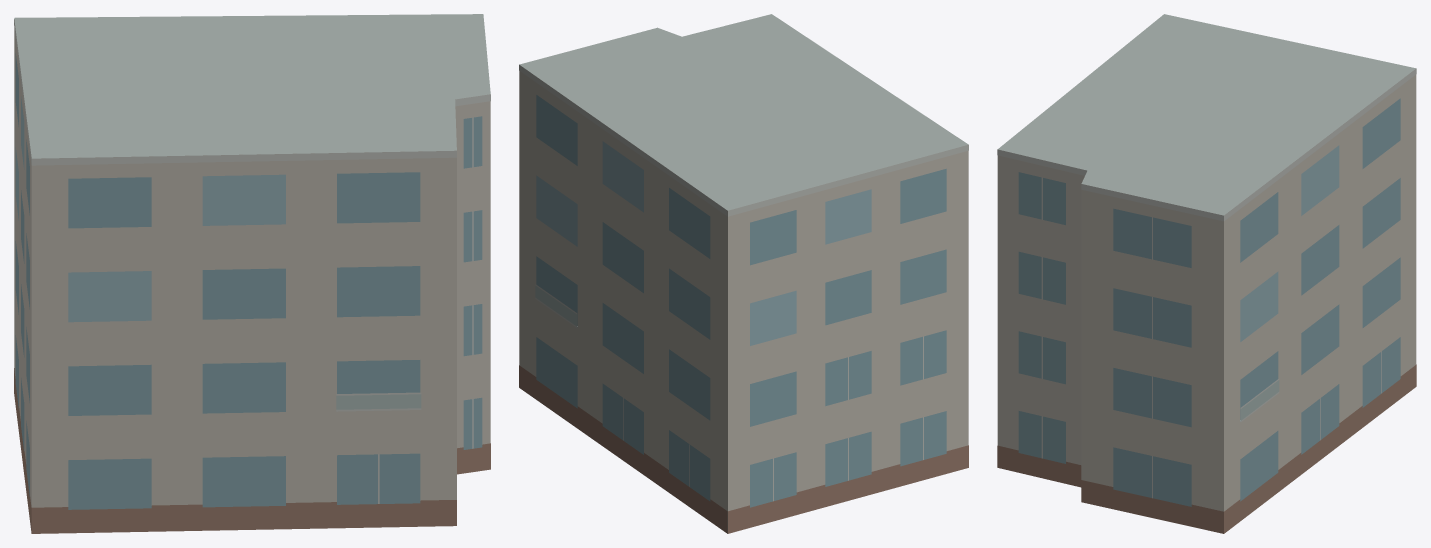
The model's file is survey-upis-32770458.glb.
3 views of the same model, side by side, from view 1: azimuth 30°, elevation 25°; view 2: azimuth 150°, elevation 25°; view 3: azimuth 270°, elevation 25° (orthographic). The views are drawn at different scales.
Visible parts, largest first — view 1: survey-upis-32770458.tmp; view 2: survey-upis-32770458.tmp; view 3: survey-upis-32770458.tmp.
Part boxes in pixels (bbox=[...]): survey-upis-32770458.tmp: bbox=[14, 14, 490, 533]; survey-upis-32770458.tmp: bbox=[519, 14, 968, 533]; survey-upis-32770458.tmp: bbox=[997, 14, 1416, 533].
Bounding box in the file's own units: 17.94 × 13.2 × 15.75.
